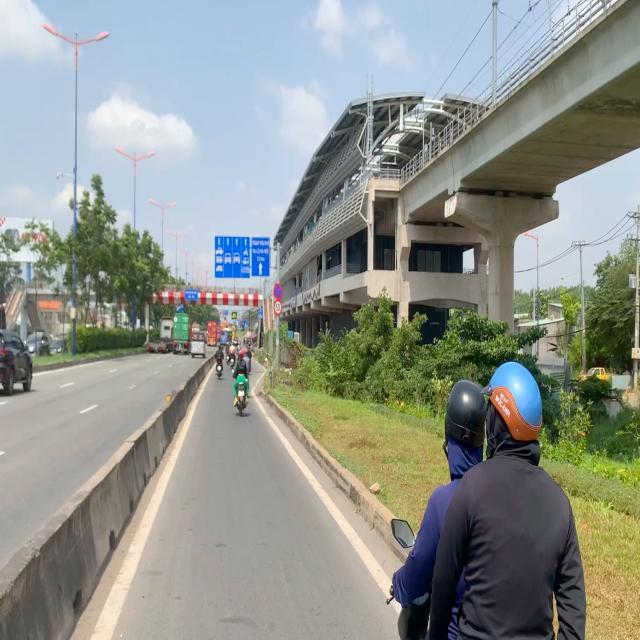Cam dung va do: (273, 282, 283, 300)
Toc do toi da: (273, 301, 282, 315)
